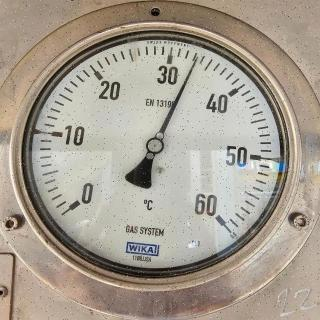gauge: (1, 4, 314, 318), (60, 186, 94, 218), (201, 200, 233, 232), (146, 137, 164, 155), (191, 52, 201, 66)
